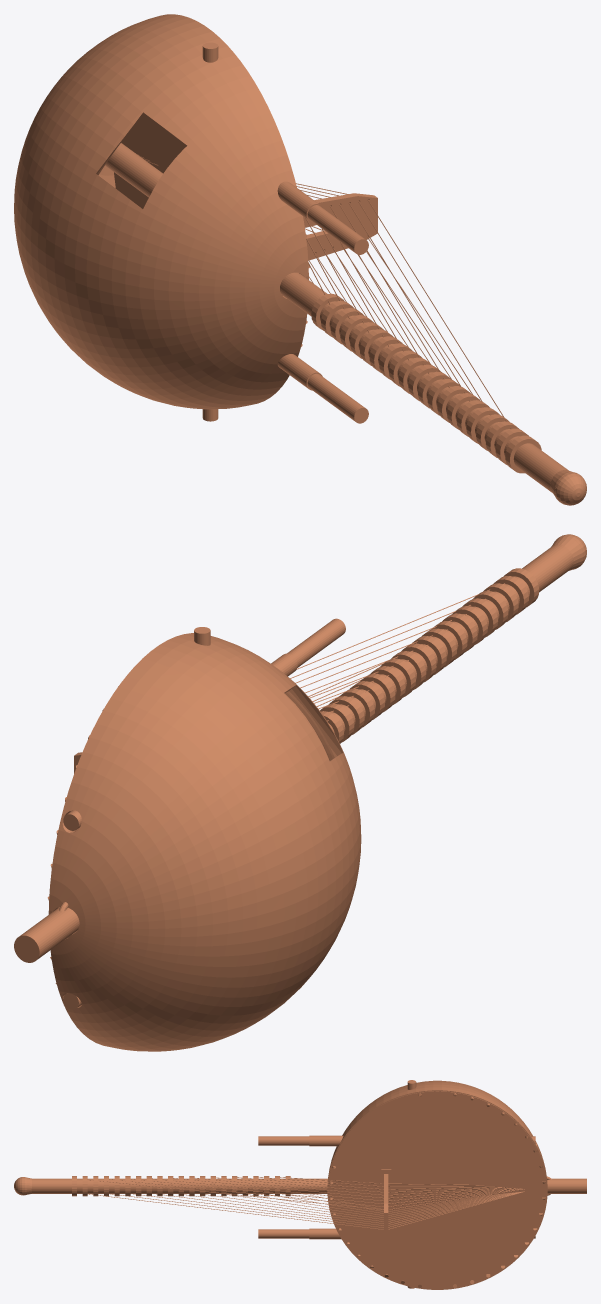
The model's file is kora-arena-winner.glb.
3 renders of one model, top to bottom at view 1: azimuth 30°, elevation 25°; view 2: azimuth 150°, elevation 25°; view 3: azimuth 270°, elevation 25°, orthographic. The views are drawn at different scales.
Parts seen in each view (by area): view 1: body_0; view 2: body_0; view 3: body_0.
Boxes of the visible parts, x1=… form: body_0: x1=14, y1=14, x2=586, y2=505; body_0: x1=14, y1=534, x2=586, y2=1051; body_0: x1=14, y1=1080, x2=586, y2=1289.
Size of the model in its own units: 429 by 530 by 1342.
